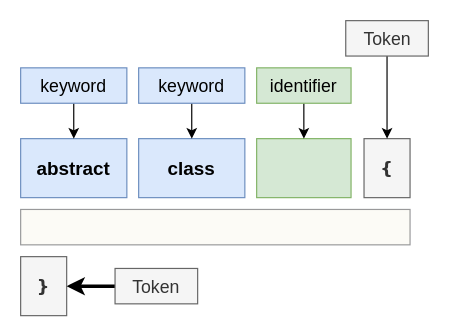
Image size: 450x336. Some labels were removed from this diagram. The centre of each missing label's shape, as x and y in pixels:
"Agent" belongs at [303,167].
"Block of Code" belongs at [214,226].
